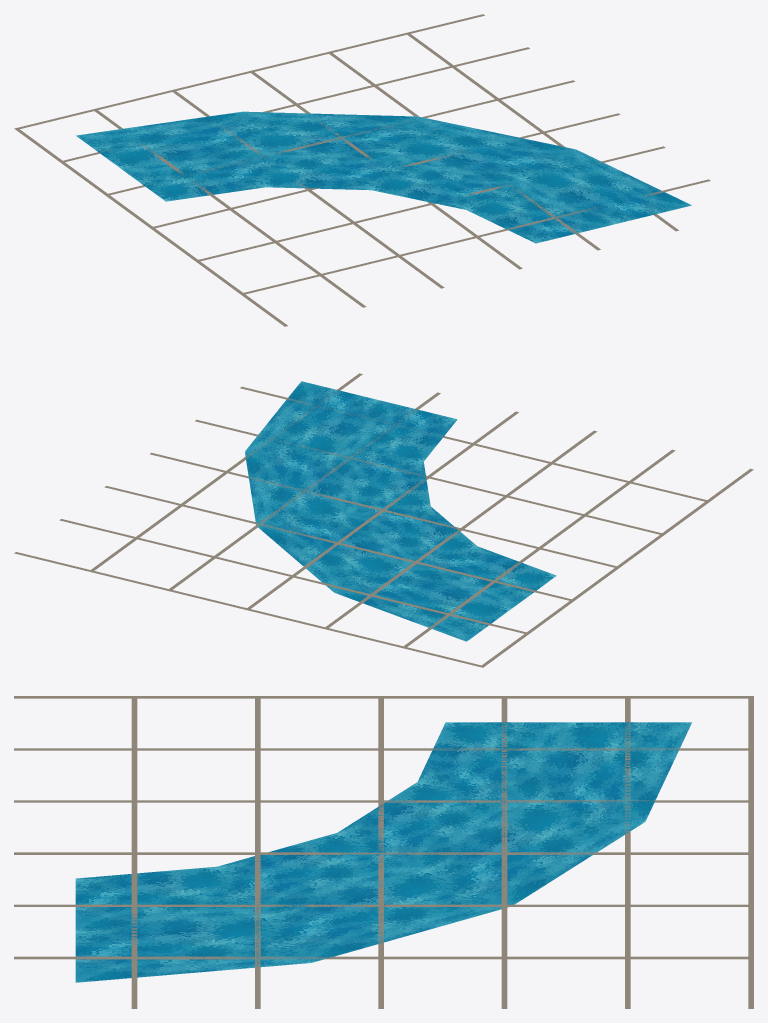
File: Terrain_Water_River_Curve_CW_5x5.glb
3 views of the same model, one above another, from view 1: azimuth 30°, elevation 25°; view 2: azimuth 150°, elevation 25°; view 3: azimuth 270°, elevation 25° (orthographic). The views are drawn at different scales.
Parts seen in each view (by area): view 1: Terrain_Water_River_Curve_CW_5x5, Floor; view 2: Terrain_Water_River_Curve_CW_5x5, Floor; view 3: Terrain_Water_River_Curve_CW_5x5, Floor.
Part boxes in pixels (x1=…): Terrain_Water_River_Curve_CW_5x5: x1=76, y1=111, x2=691, y2=243; Floor: x1=14, y1=14, x2=710, y2=326; Terrain_Water_River_Curve_CW_5x5: x1=245, y1=381, x2=556, y2=641; Floor: x1=14, y1=373, x2=753, y2=667; Terrain_Water_River_Curve_CW_5x5: x1=75, y1=722, x2=691, y2=982; Floor: x1=14, y1=696, x2=753, y2=1008.
Bounding box in the file's own units: 600 × 2.16e-06 × 600.
2 materials, 2 textured.
